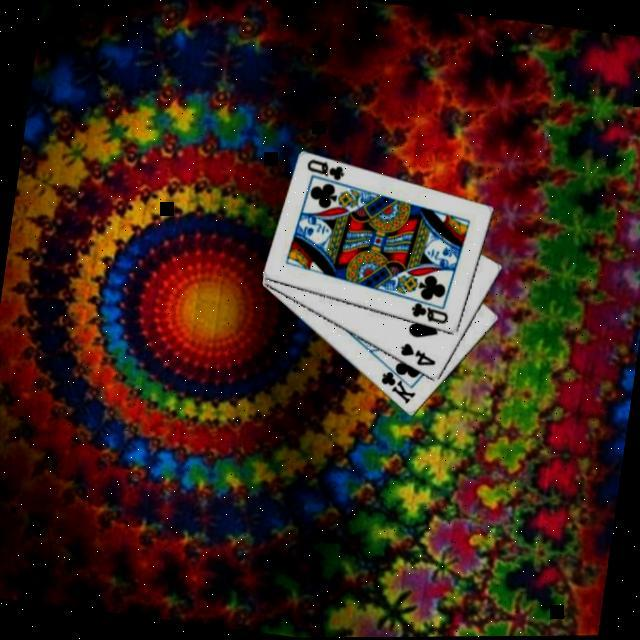4S: (394, 340, 439, 370)
KC: (374, 360, 421, 408)
QC: (404, 299, 450, 327), (301, 155, 347, 183)
